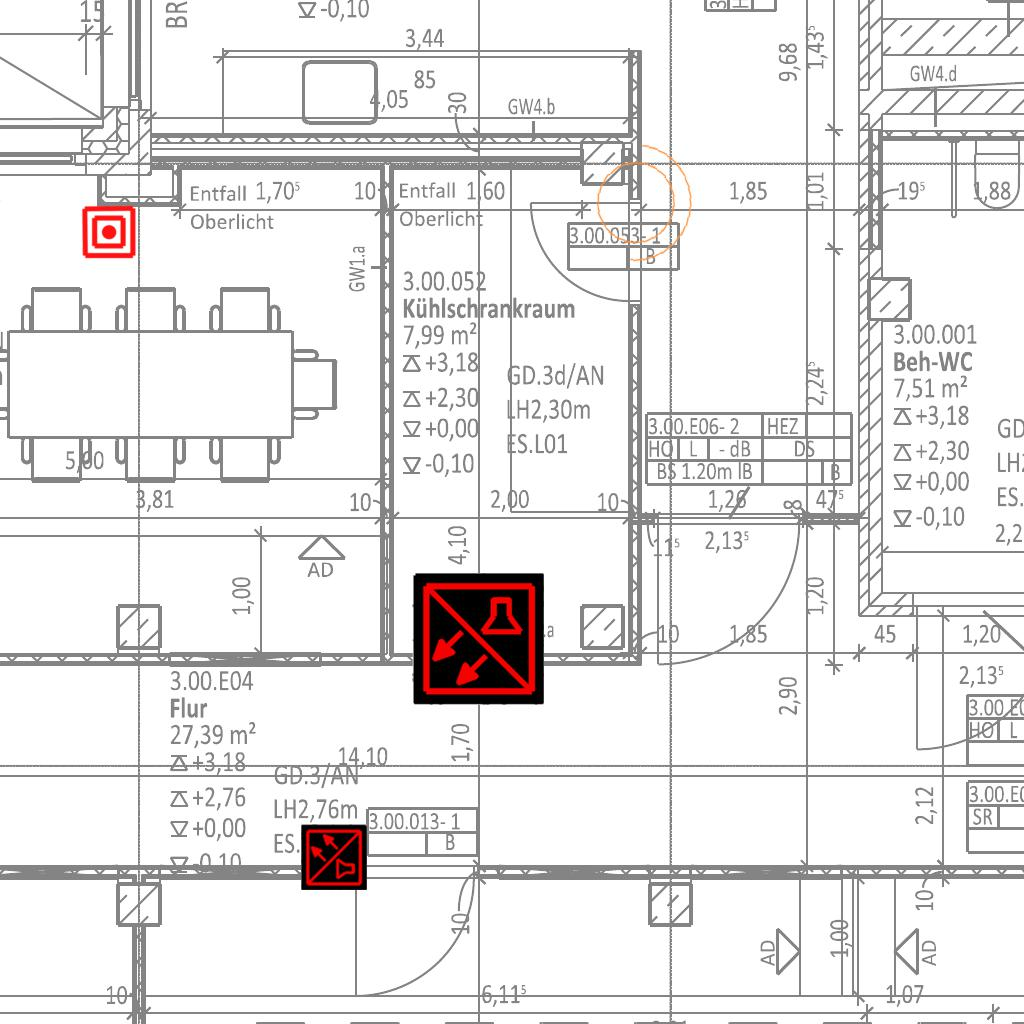NAM-Nichtautomatischer_Melder: (81, 204, 137, 260)
OKW_Multisensormelder_(Kombination_optischer_Rauch-Kahlenmonoxid_Waerme-Melder): (412, 573, 544, 705), (301, 824, 367, 890)
Scheinwerfer_fuer_Alarmbeleuchtung: (578, 128, 704, 272)
